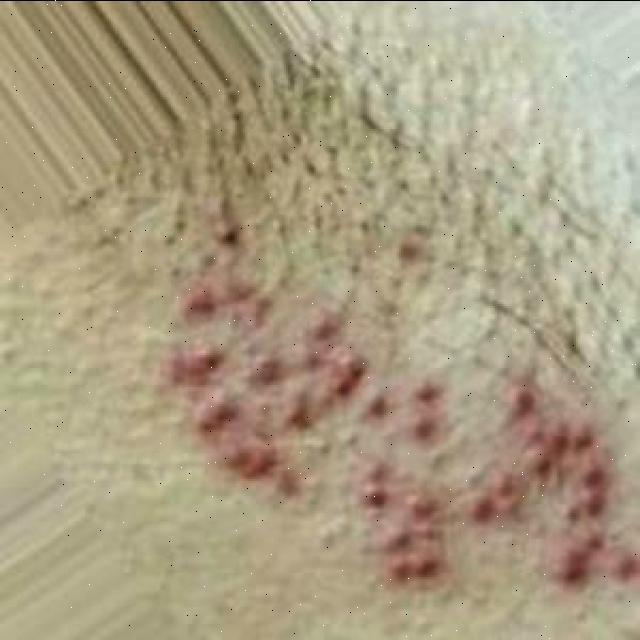Shingles: (173, 275, 636, 590)
